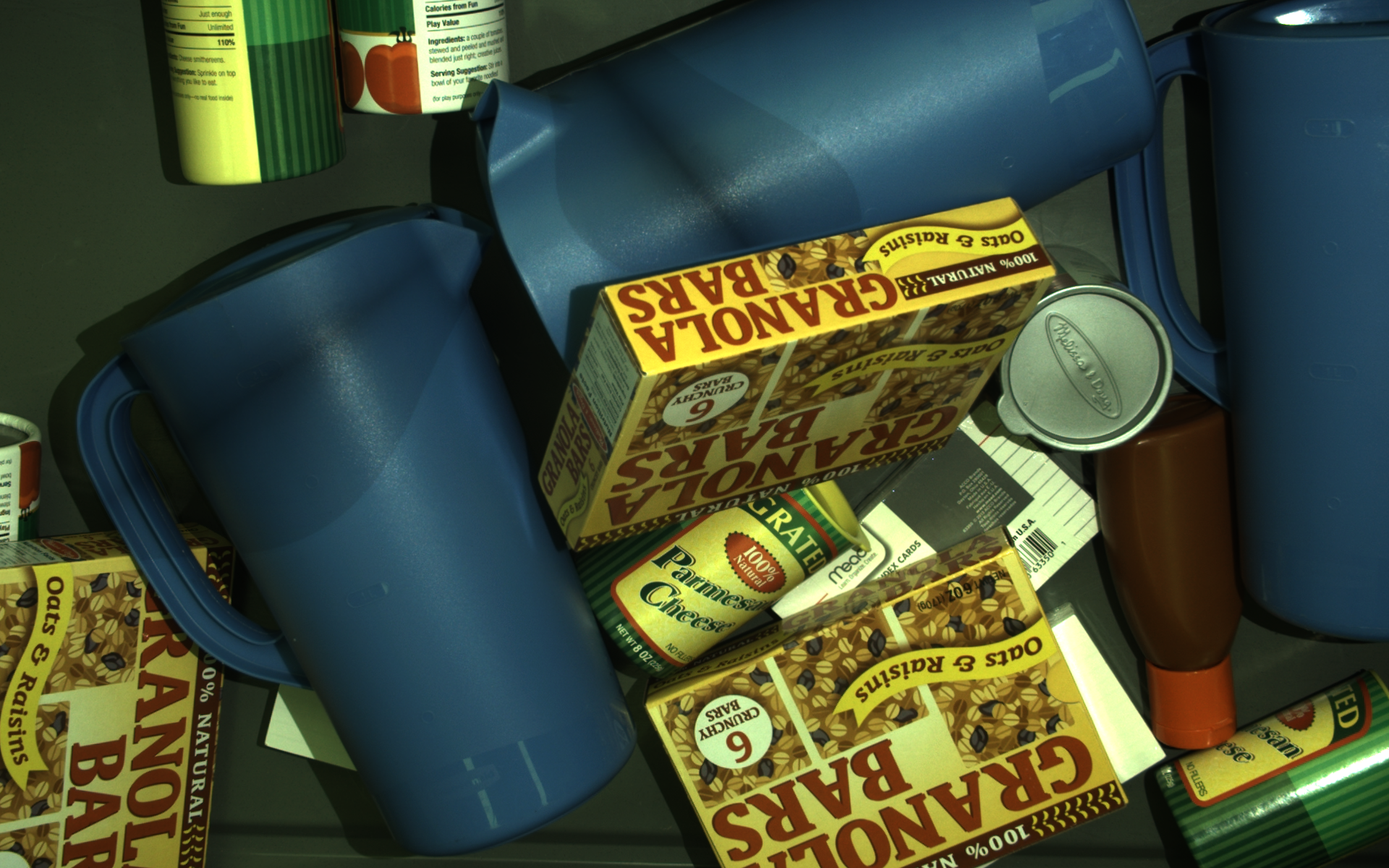defect: (78, 204, 488, 561), (546, 41, 862, 273)
